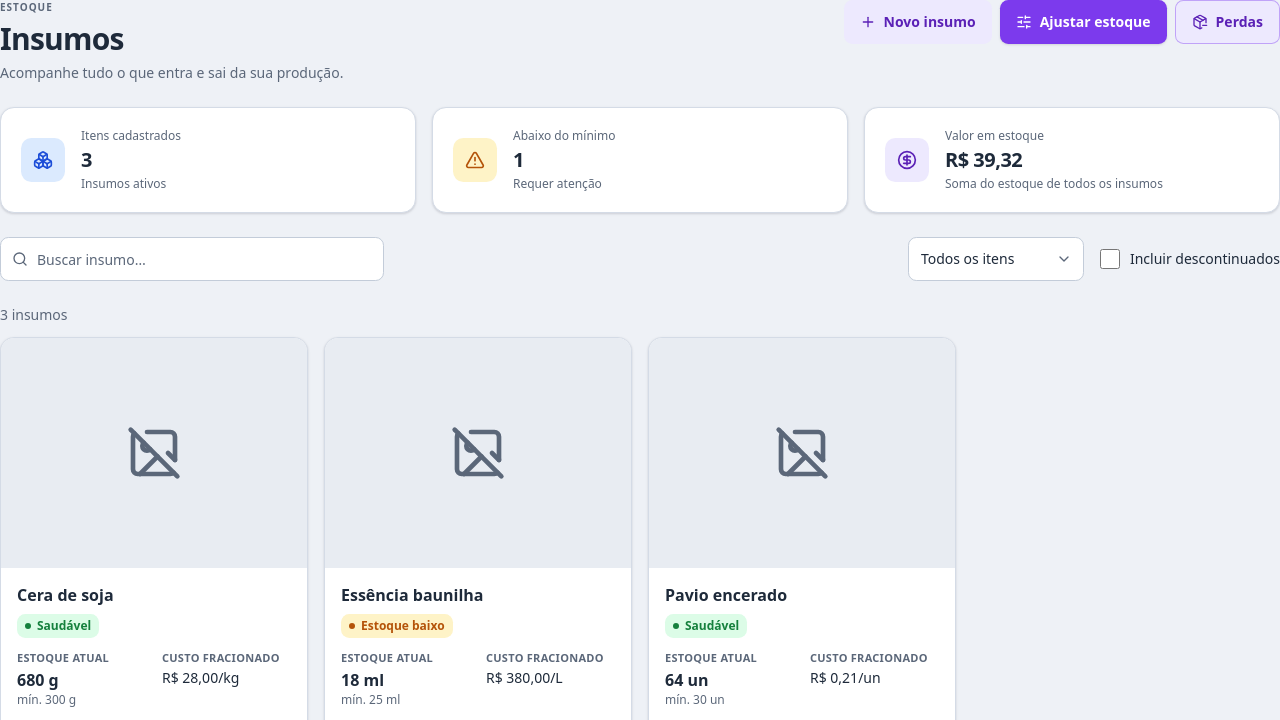
Test case: the stock section of a material › lets the page header adjust the stock of any active material
expect the link "Cera de soja" is shown: met, box [17, 584, 114, 606]
Click the button "Ajustar estoque": (1083, 22) [1000, 0, 1167, 44]
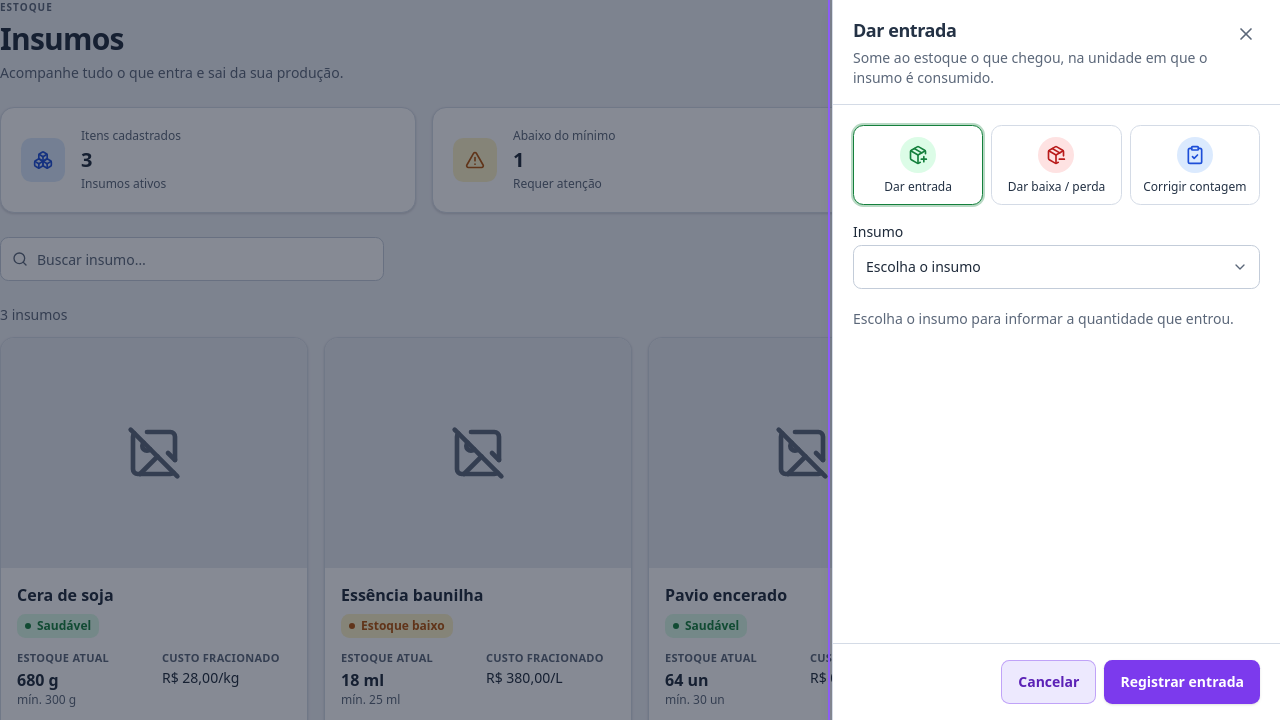
expect the dropdown labelled "Insumo" is shown: met, box [853, 245, 1260, 289]
expect the radio button labelled "Dar entrada" is checked: met, box [853, 125, 983, 205]
